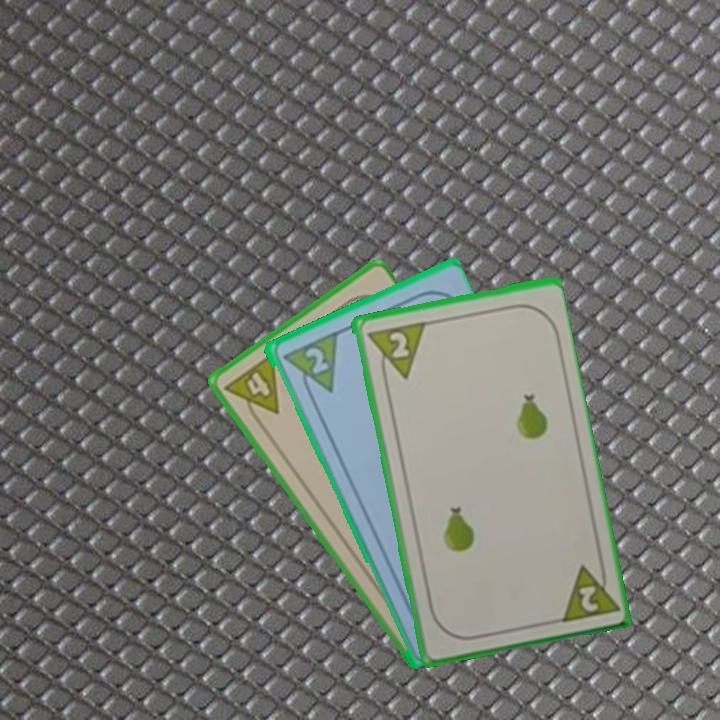2p: (555, 555, 619, 626), (362, 317, 427, 385), (301, 343, 331, 377)
4p: (221, 349, 282, 429)
